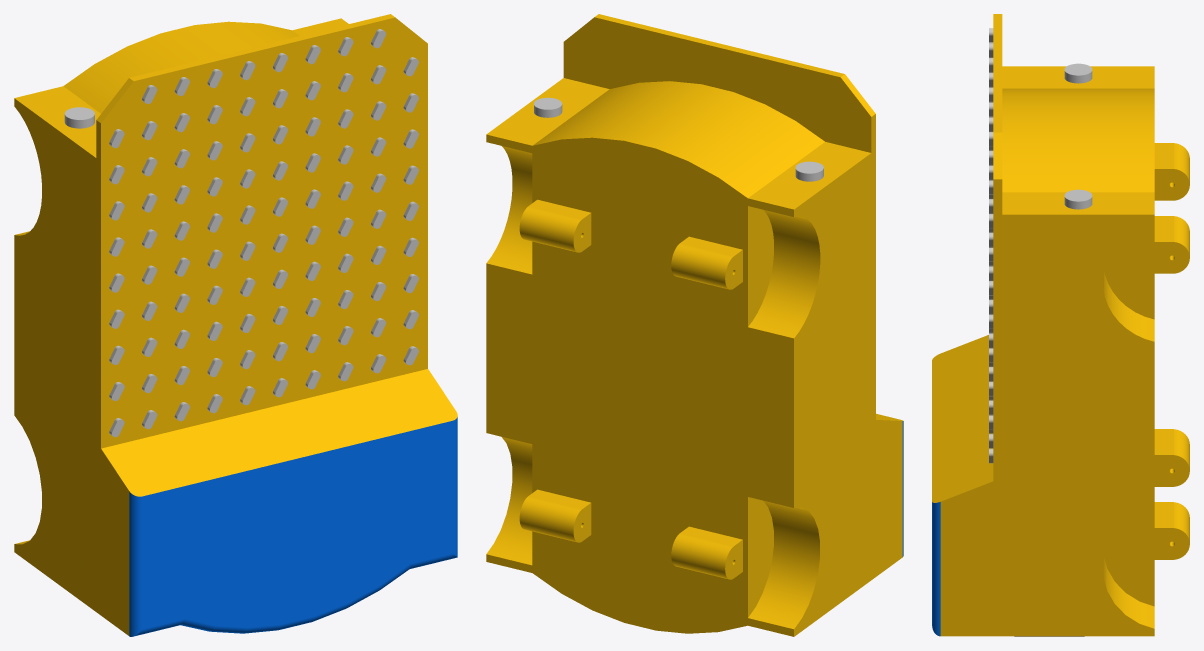
File: waregv_v1_chasis.obj
The picture shows the model from 3 angles, left to right: view 1: azimuth 30°, elevation 25°; view 2: azimuth 150°, elevation 25°; view 3: azimuth 270°, elevation 25°; orthographic projection. The views are drawn at different scales.
Parts seen in each view (by area): view 1: Body15, Body9; view 2: Body15, Body9, Body7, Body4, Body5, Body3, Body2; view 3: Body15, Body7, Body9, Body2, Body3, Body4, Body5, Body13, Body14.
Boxes of the visible parts, x1,y1,x2,y2 form: Body15: (14, 14, 457, 636); Body9: (14, 86, 100, 294); Body15: (486, 14, 903, 636); Body9: (748, 142, 871, 338); Body7: (486, 78, 609, 274); Body4: (519, 489, 591, 542); Body5: (519, 199, 591, 252); Body3: (671, 236, 742, 289); Body2: (671, 526, 742, 579); Body15: (932, 14, 1154, 636); Body7: (1002, 192, 1154, 341); Body9: (1002, 66, 1154, 88); Body2: (1154, 429, 1189, 486); Body3: (1154, 143, 1189, 200); Body4: (1154, 502, 1189, 559); Body5: (1154, 216, 1189, 273); Body13: (1064, 63, 1092, 83); Body14: (1064, 189, 1092, 209).
Bounding box in the file's own units: 20 × 32.5 × 14.7.
